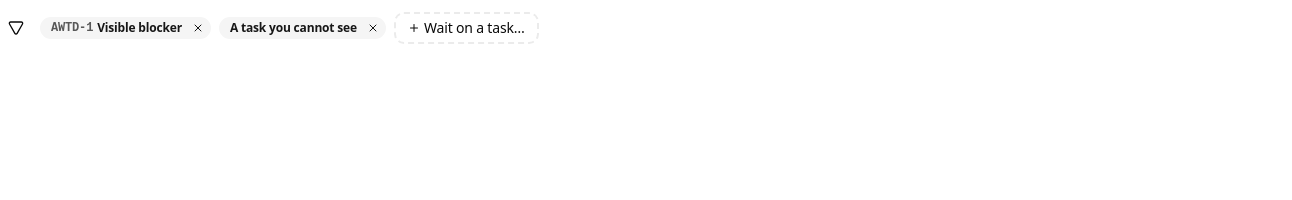
Test case: TaskDetailBlockersRow without a board or a grant (AWTD-1039) › says a refused cycle is a cycle — the reason ApiError carries in detail
Expected: the link "Visible blocker" is shown, x1=97 y1=20 x2=182 y2=36
Click the button with test id "task-detail-add-blocker" at {"x": 466, "y": 28}, box x1=394 y1=12 x2=539 y2=44
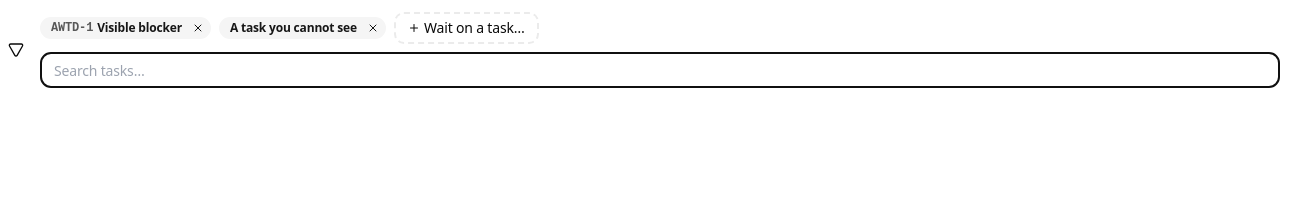
Type "ta" into the field at {"x": 660, "y": 70}, box x1=40 y1=52 x2=1280 y2=88
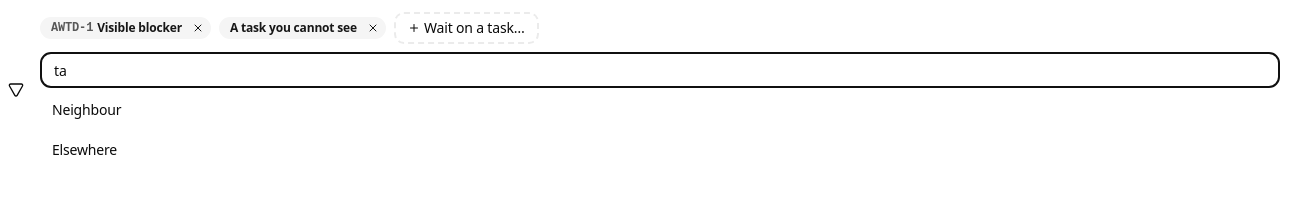
Click the button "Neighbour" at {"x": 87, "y": 110}, box x1=40 y1=92 x2=1280 y2=128
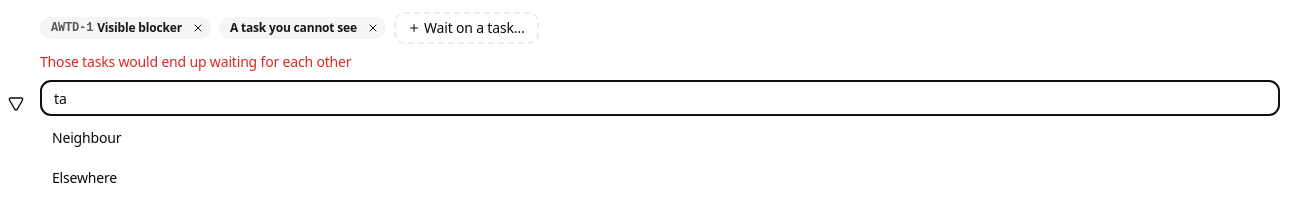
Expected: the text "Those tasks would end up waiting for each other" is shown, x1=40 y1=52 x2=351 y2=71
